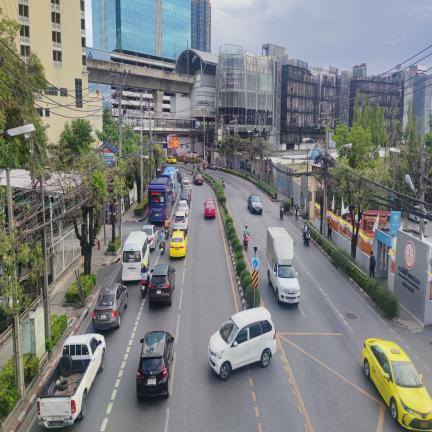bus: (148, 175, 172, 222), (163, 166, 178, 202), (164, 166, 177, 202)
car: (208, 307, 276, 380), (136, 331, 174, 398), (92, 283, 128, 329), (267, 261, 300, 306), (148, 264, 175, 307), (141, 225, 159, 250), (173, 210, 189, 234), (247, 195, 263, 214), (178, 199, 189, 216), (180, 191, 190, 206), (408, 212, 420, 223), (182, 186, 191, 200), (193, 173, 203, 185), (181, 177, 190, 188), (180, 172, 188, 182), (413, 205, 422, 213), (156, 165, 163, 174), (423, 210, 427, 215), (424, 220, 427, 224), (270, 243, 272, 246), (278, 249, 279, 252), (273, 249, 275, 250), (270, 240, 271, 242), (182, 233, 183, 234), (282, 249, 283, 250), (274, 252, 274, 253), (268, 243, 268, 244), (188, 194, 188, 198)
human: (369, 251, 376, 279), (164, 217, 170, 236), (327, 221, 332, 241), (295, 204, 299, 220)
motorbike: (141, 278, 149, 297), (303, 230, 310, 247), (244, 233, 249, 251), (159, 242, 165, 255), (280, 208, 284, 220), (165, 228, 169, 238)
pickup: (37, 334, 106, 428)
taxi: (362, 339, 432, 431), (170, 231, 187, 257), (204, 199, 216, 218), (166, 156, 177, 164)
truck: (266, 227, 300, 305)
van: (122, 232, 149, 281)
